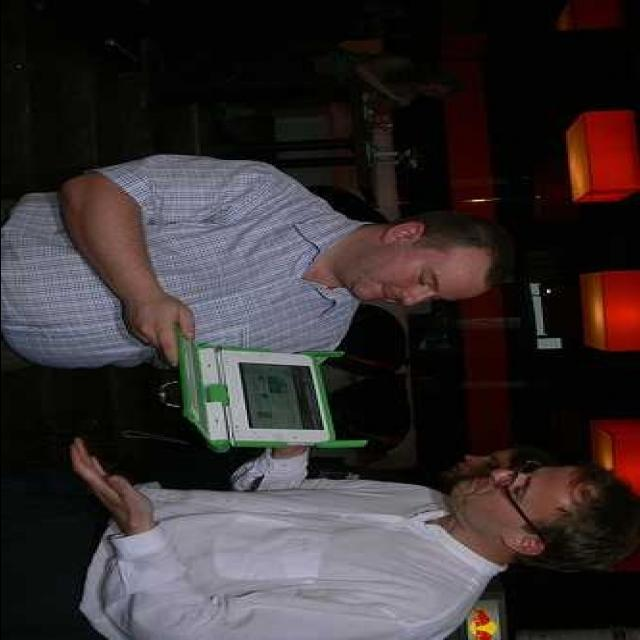-keyboard-: (177, 336, 330, 450)
